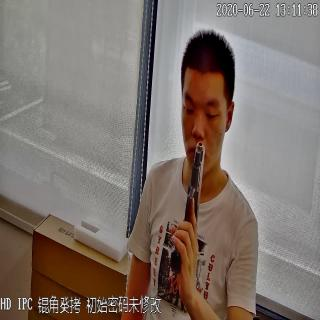gun: (170, 140, 206, 277)
